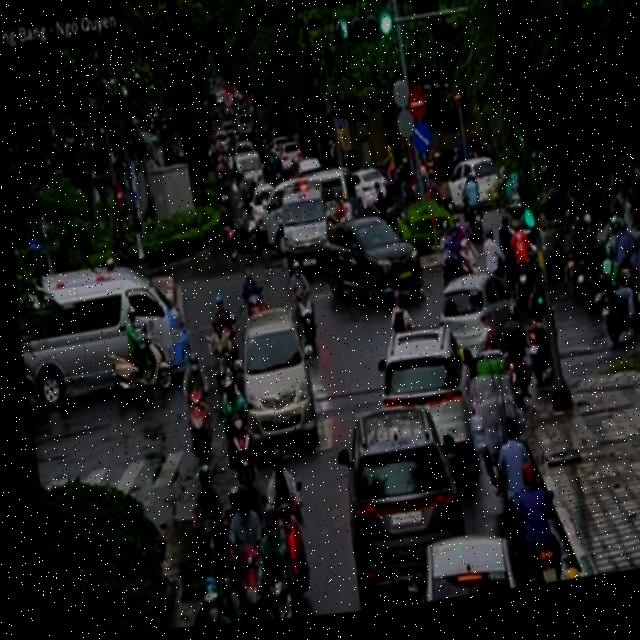Green: (328, 7, 397, 60), (508, 138, 538, 250), (526, 277, 543, 323)
